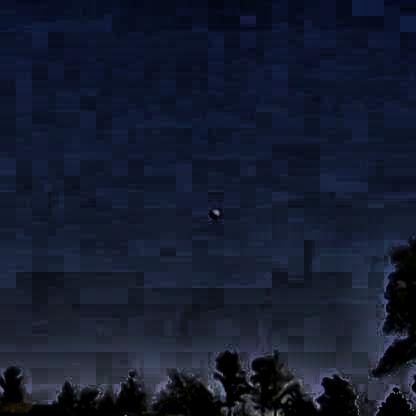golfball: (207, 206, 218, 215)
